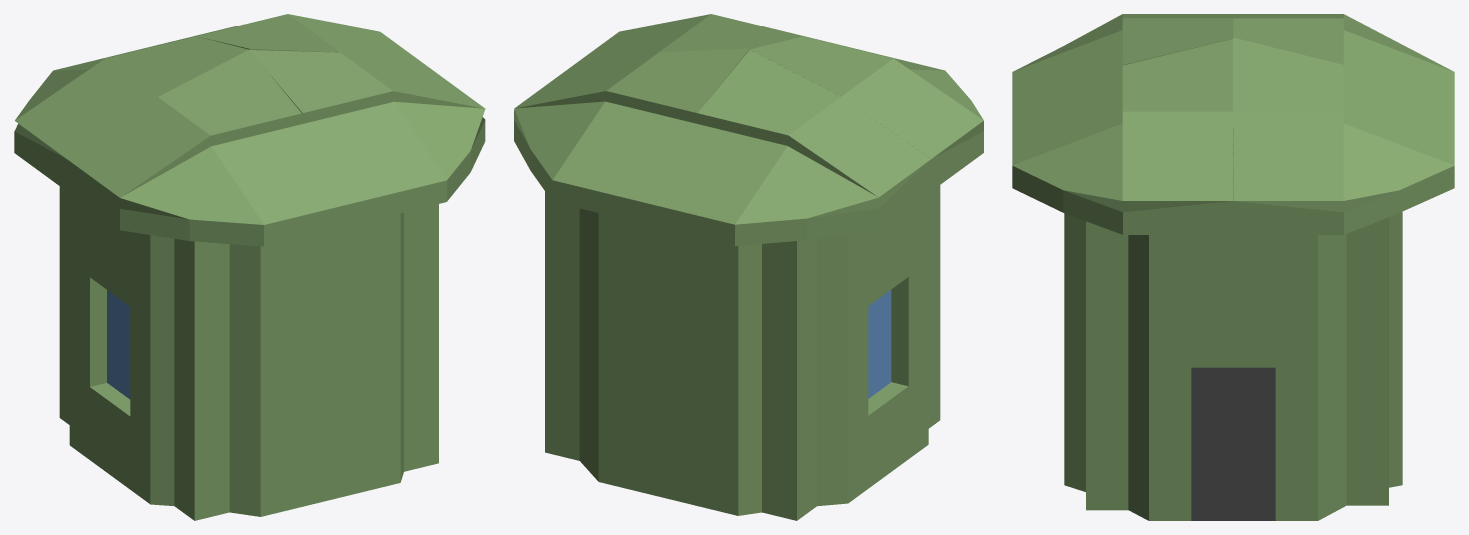
Rendered from budka.fbx.
The picture shows the model from 3 angles, left to right: view 1: azimuth 30°, elevation 25°; view 2: azimuth 150°, elevation 25°; view 3: azimuth 270°, elevation 25°; orthographic projection. The views are drawn at different scales.
Parts seen in each view (by area): view 1: Cube, Cube.001; view 2: Cube, Cube.001; view 3: Cube, Cube.001.
Part boxes in pixels (box(x1,y1,x2,y2)): Cube: box(59, 186, 438, 520); Cube.001: box(14, 14, 485, 246); Cube: box(545, 185, 940, 520); Cube.001: box(514, 14, 983, 246); Cube: box(1064, 211, 1402, 520); Cube.001: box(1012, 14, 1454, 234).
Size of the model in its own units: 1445 by 1482 by 1445.
